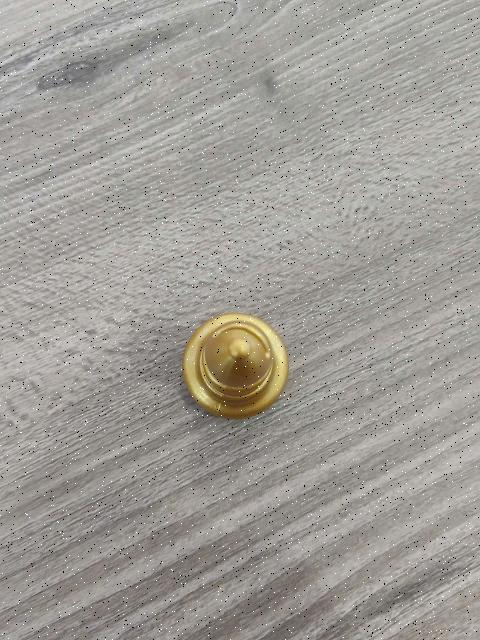black_bishop: (182, 311, 291, 419)
